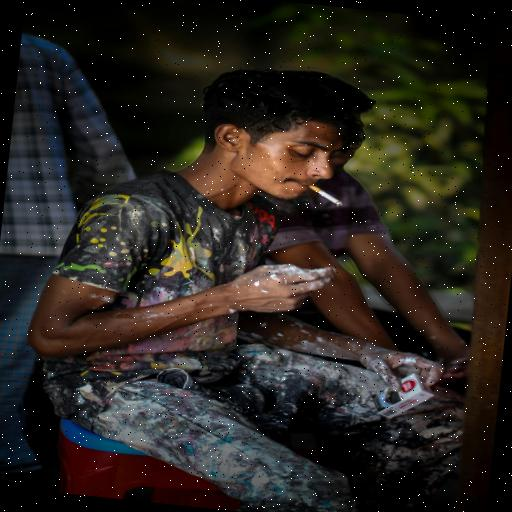merokok: (274, 147, 370, 232)
